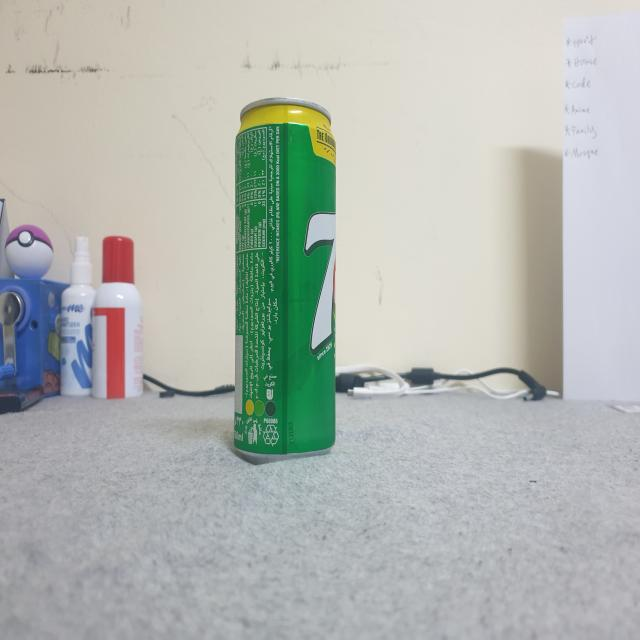non-organic waste: (223, 75, 348, 492)
